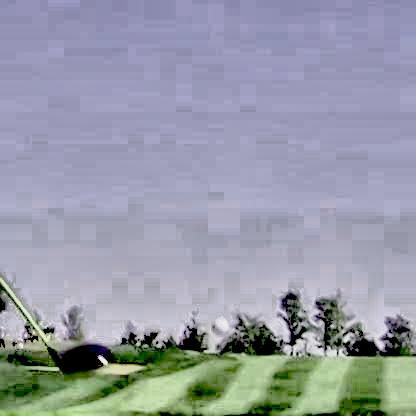golfball: (207, 314, 227, 333)
